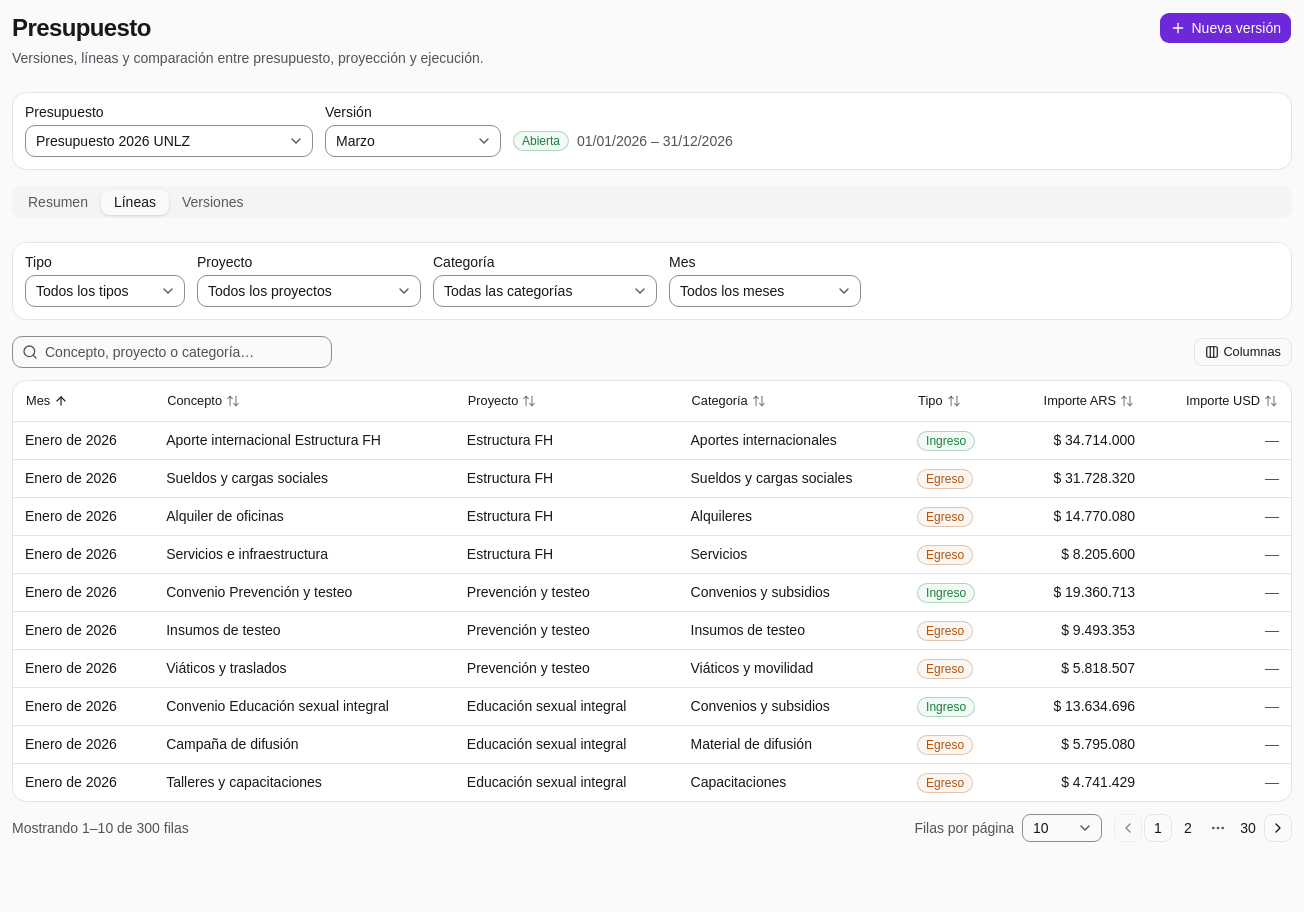
Test: PresupuestoPage › busca líneas por concepto en la API mock
The image size is (1304, 912).
Expected: the text "Sueldos y cargas sociales" is shown, [166, 470, 328, 486]
Step 1. Type "alquiler" into the search field named "Buscar en las líneas" → (172, 352), box [12, 336, 332, 368]
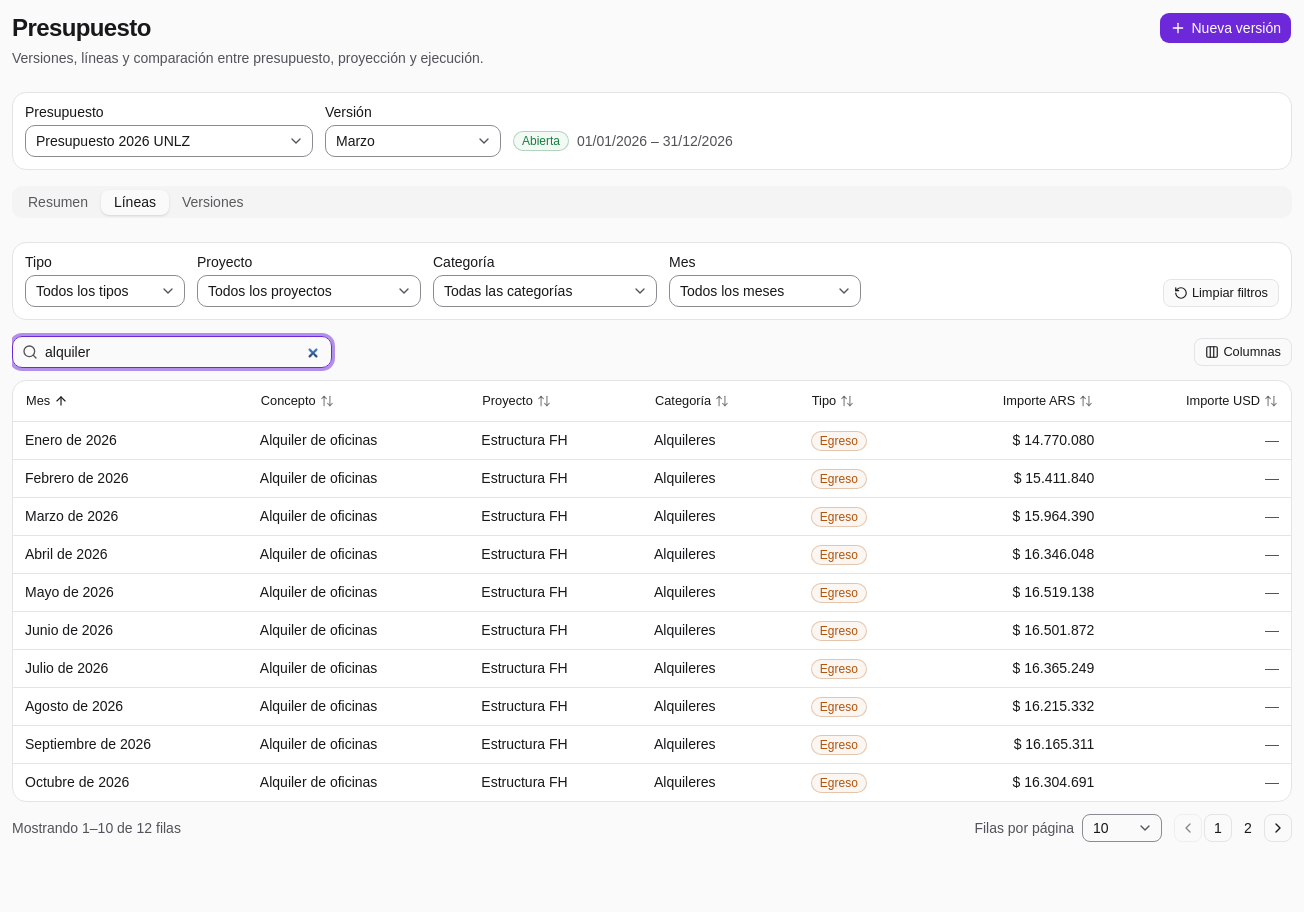
Expected: the text "Alquiler de oficinas" next to "Enero de 2026" is shown, [260, 432, 377, 448]
Result: the text "Sueldos y cargas sociales" is not shown
